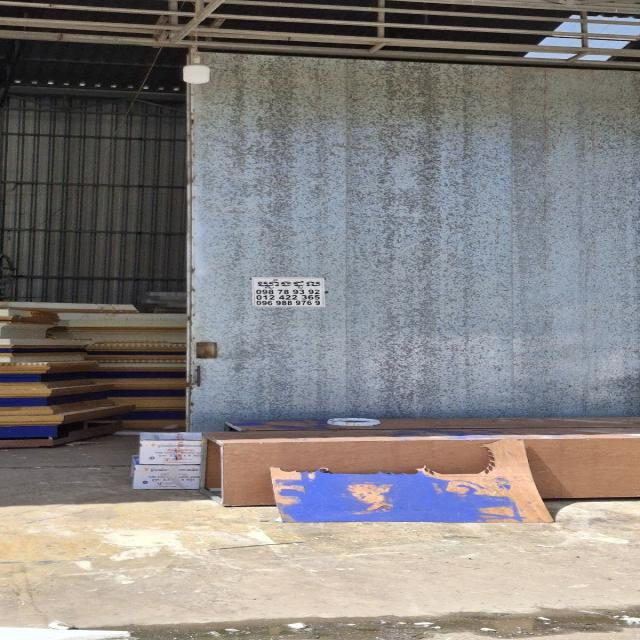Yolov11_80vkh: (252, 276, 329, 289)
